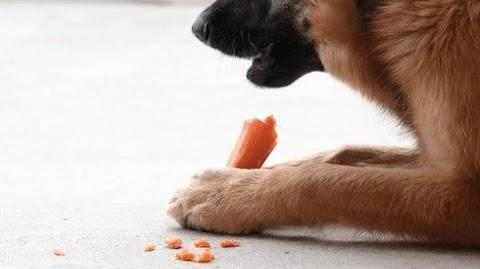adult_dog: (167, 1, 480, 247)
